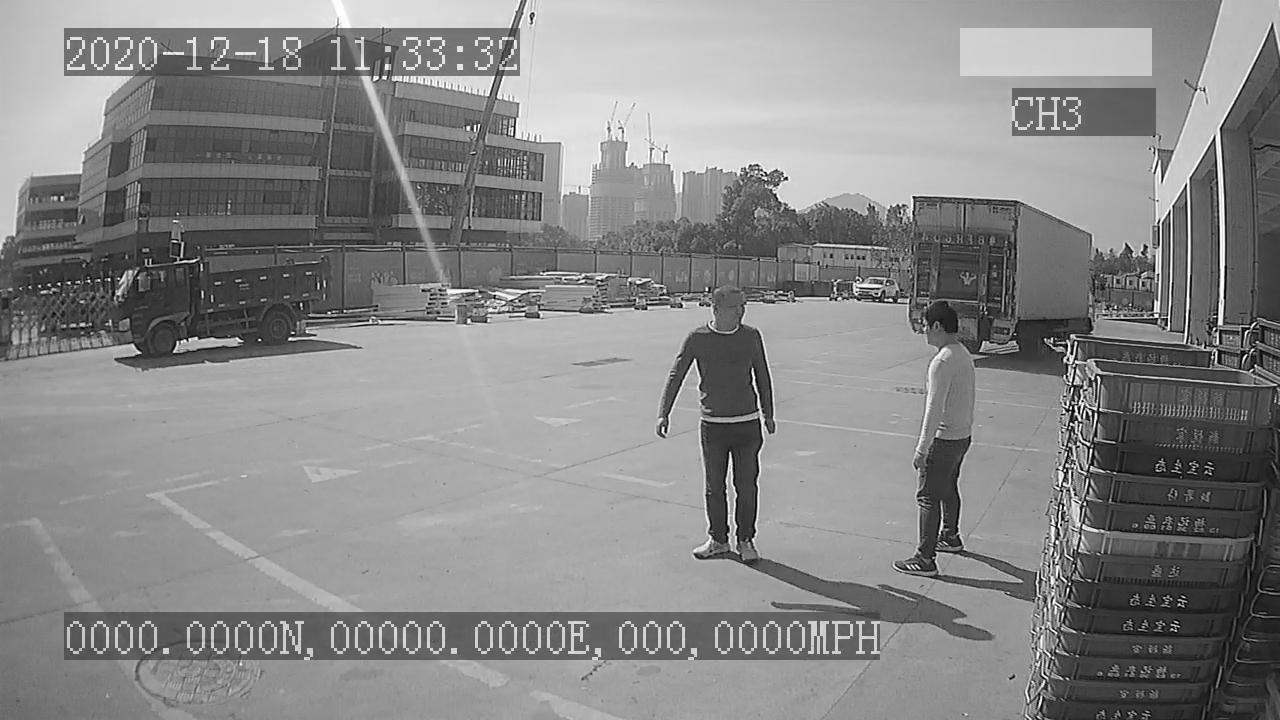person: (650, 280, 780, 567)
